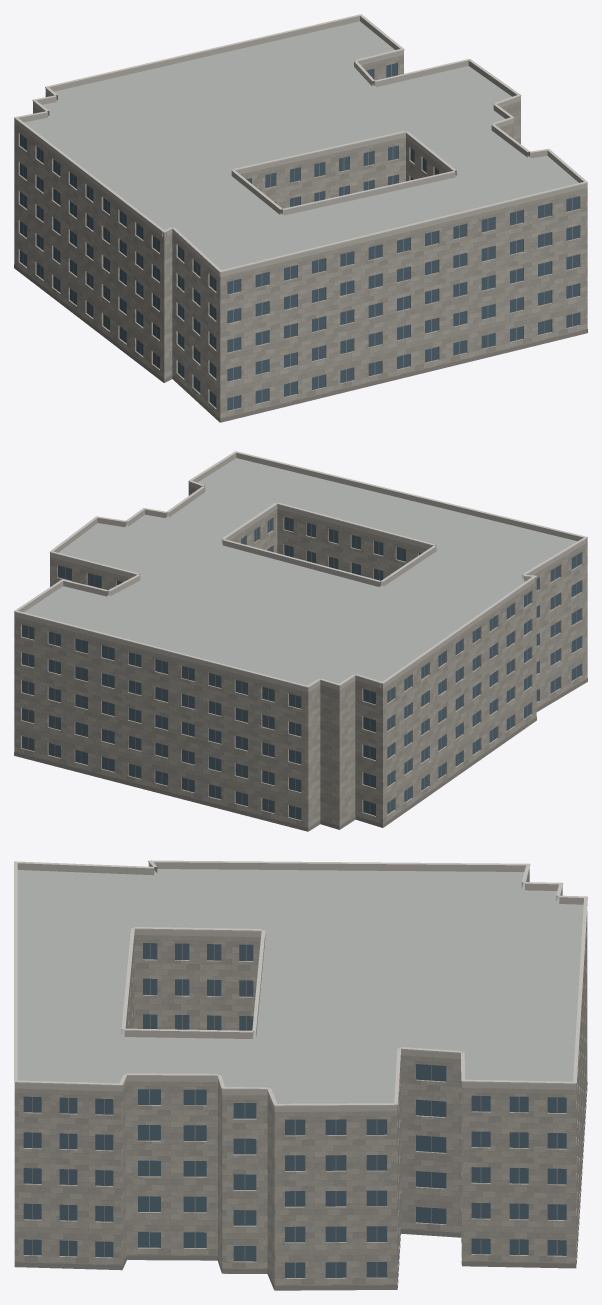
3 renders of one model, top to bottom at view 1: azimuth 30°, elevation 25°; view 2: azimuth 150°, elevation 25°; view 3: azimuth 270°, elevation 25°, orthographic. The views are drawn at different scales.
Parts seen in each view (by area): view 1: vetMedicine__wall, vetMedicine__roof, vetMedicine__glass, vetMedicine__parapet, vetMedicine__trim, vetMedicine__base, vetMedicine__frame; view 2: vetMedicine__wall, vetMedicine__roof, vetMedicine__glass, vetMedicine__parapet, vetMedicine__trim, vetMedicine__base, vetMedicine__frame; view 3: vetMedicine__roof, vetMedicine__wall, vetMedicine__glass, vetMedicine__parapet, vetMedicine__trim, vetMedicine__base, vetMedicine__frame.
Boxes of the visible parts, bbox=[...] form: vetMedicine__wall: bbox=[14, 55, 587, 422]; vetMedicine__roof: bbox=[24, 21, 578, 270]; vetMedicine__glass: bbox=[20, 63, 579, 410]; vetMedicine__parapet: bbox=[14, 16, 587, 277]; vetMedicine__trim: bbox=[14, 14, 587, 272]; vetMedicine__base: bbox=[14, 264, 587, 422]; vetMedicine__frame: bbox=[23, 64, 572, 409]; vetMedicine__wall: bbox=[14, 486, 587, 831]; vetMedicine__roof: bbox=[24, 458, 576, 685]; vetMedicine__glass: bbox=[22, 517, 580, 819]; vetMedicine__parapet: bbox=[14, 453, 587, 692]; vetMedicine__trim: bbox=[14, 451, 587, 687]; vetMedicine__base: bbox=[14, 678, 587, 831]; vetMedicine__frame: bbox=[28, 518, 576, 818]; vetMedicine__roof: bbox=[17, 869, 583, 1290]; vetMedicine__wall: bbox=[14, 872, 587, 1289]; vetMedicine__glass: bbox=[23, 943, 566, 1278]; vetMedicine__parapet: bbox=[14, 862, 583, 1111]; vetMedicine__trim: bbox=[14, 860, 587, 1106]; vetMedicine__base: bbox=[14, 1082, 587, 1290]; vetMedicine__frame: bbox=[32, 943, 557, 1278].
Bounding box in the file's own units: 54.52 × 19.22 × 53.94.
Materials: 7 (1 with a texture image).
